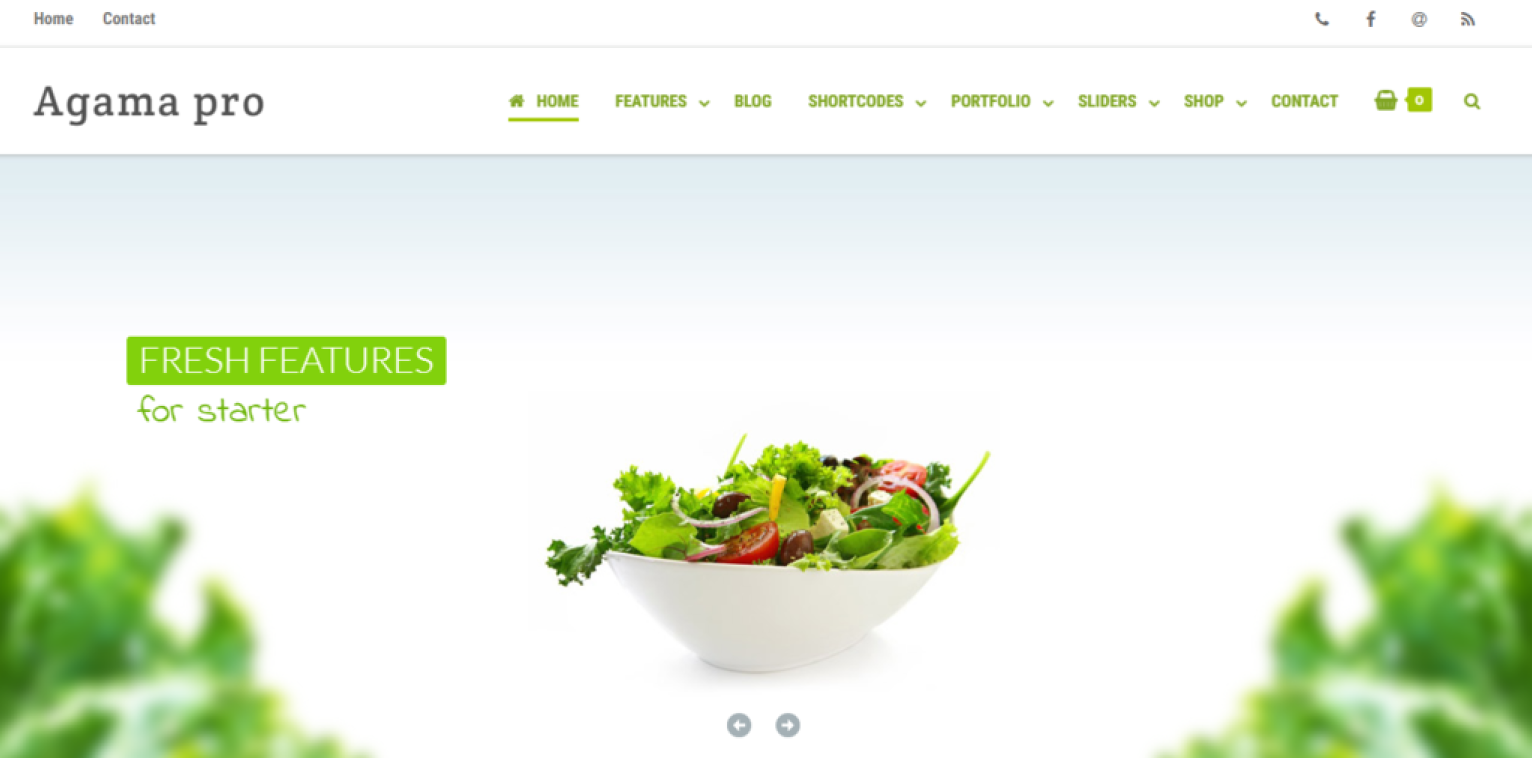menu: (17, 11, 1514, 211)
